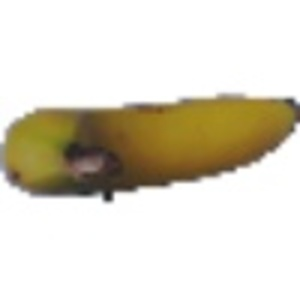banana: (2, 89, 297, 203)
